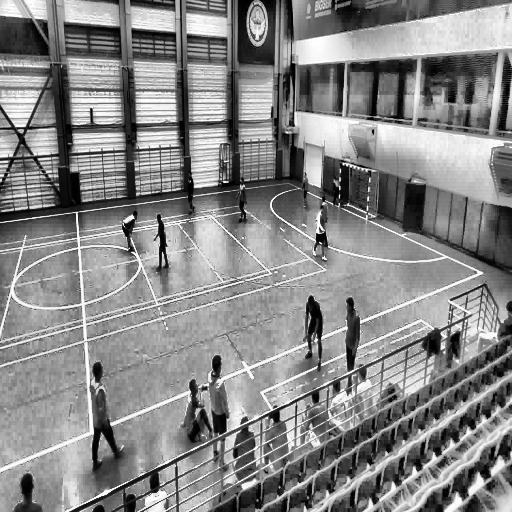player: (90, 362, 125, 468), (207, 354, 229, 471), (184, 379, 213, 451), (345, 297, 360, 387), (304, 292, 322, 365), (312, 204, 328, 265), (153, 212, 169, 270), (317, 194, 330, 249), (122, 210, 137, 252), (237, 177, 247, 224), (186, 173, 195, 214), (331, 175, 341, 207), (303, 172, 309, 208)
